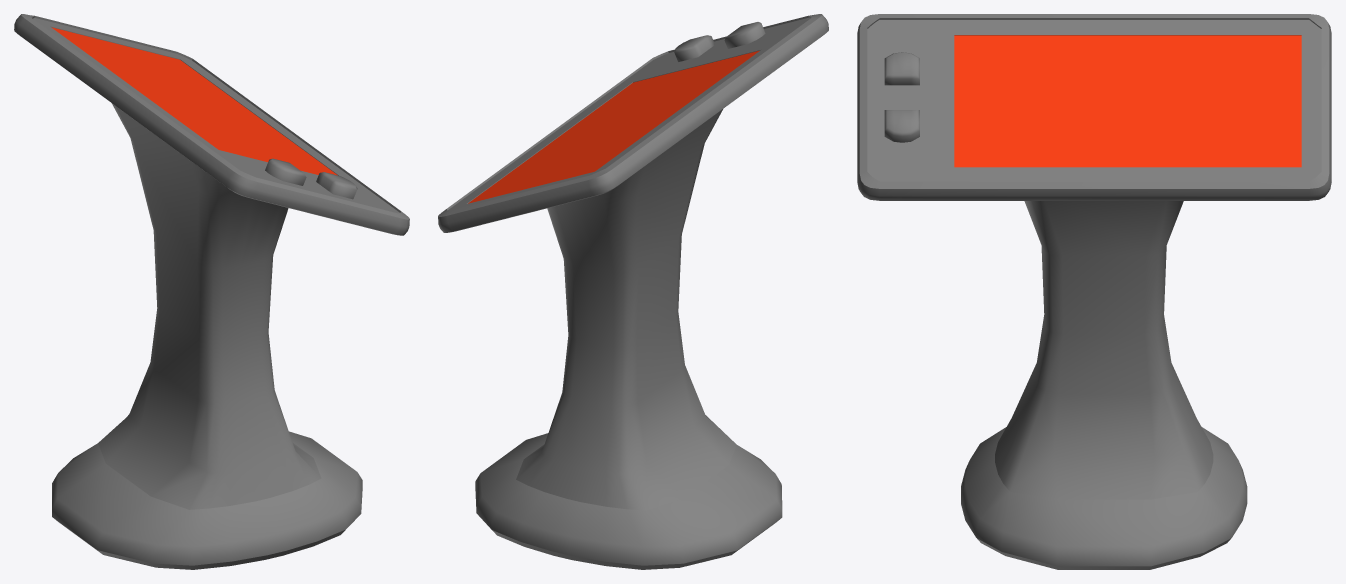
File: SM_Tablet.fbx
The picture shows the model from 3 angles, left to right: view 1: azimuth 30°, elevation 25°; view 2: azimuth 150°, elevation 25°; view 3: azimuth 270°, elevation 25°; orthographic projection. The views are drawn at different scales.
Visible parts, largest first — view 1: tablet_pedestal001, Tablet001, Button004, Button003; view 2: tablet_pedestal001, Tablet001, Button004, Button003; view 3: Tablet001, tablet_pedestal001, Button003, Button004.
Boxes of the visible parts, x1,y1,x2,y2 form: tablet_pedestal001: (52, 103, 362, 569); Tablet001: (14, 14, 409, 235); Button004: (316, 172, 357, 199); Button003: (265, 158, 306, 185); tablet_pedestal001: (475, 109, 782, 569); Tablet001: (438, 14, 828, 232); Button004: (674, 35, 714, 61); Button003: (724, 22, 765, 48); Tablet001: (857, 14, 1331, 200); tablet_pedestal001: (961, 201, 1247, 569); Button003: (884, 52, 919, 85); Button004: (884, 110, 919, 142).
Bounding box in the file's own units: 0.8902 × 1.41 × 1.34.
